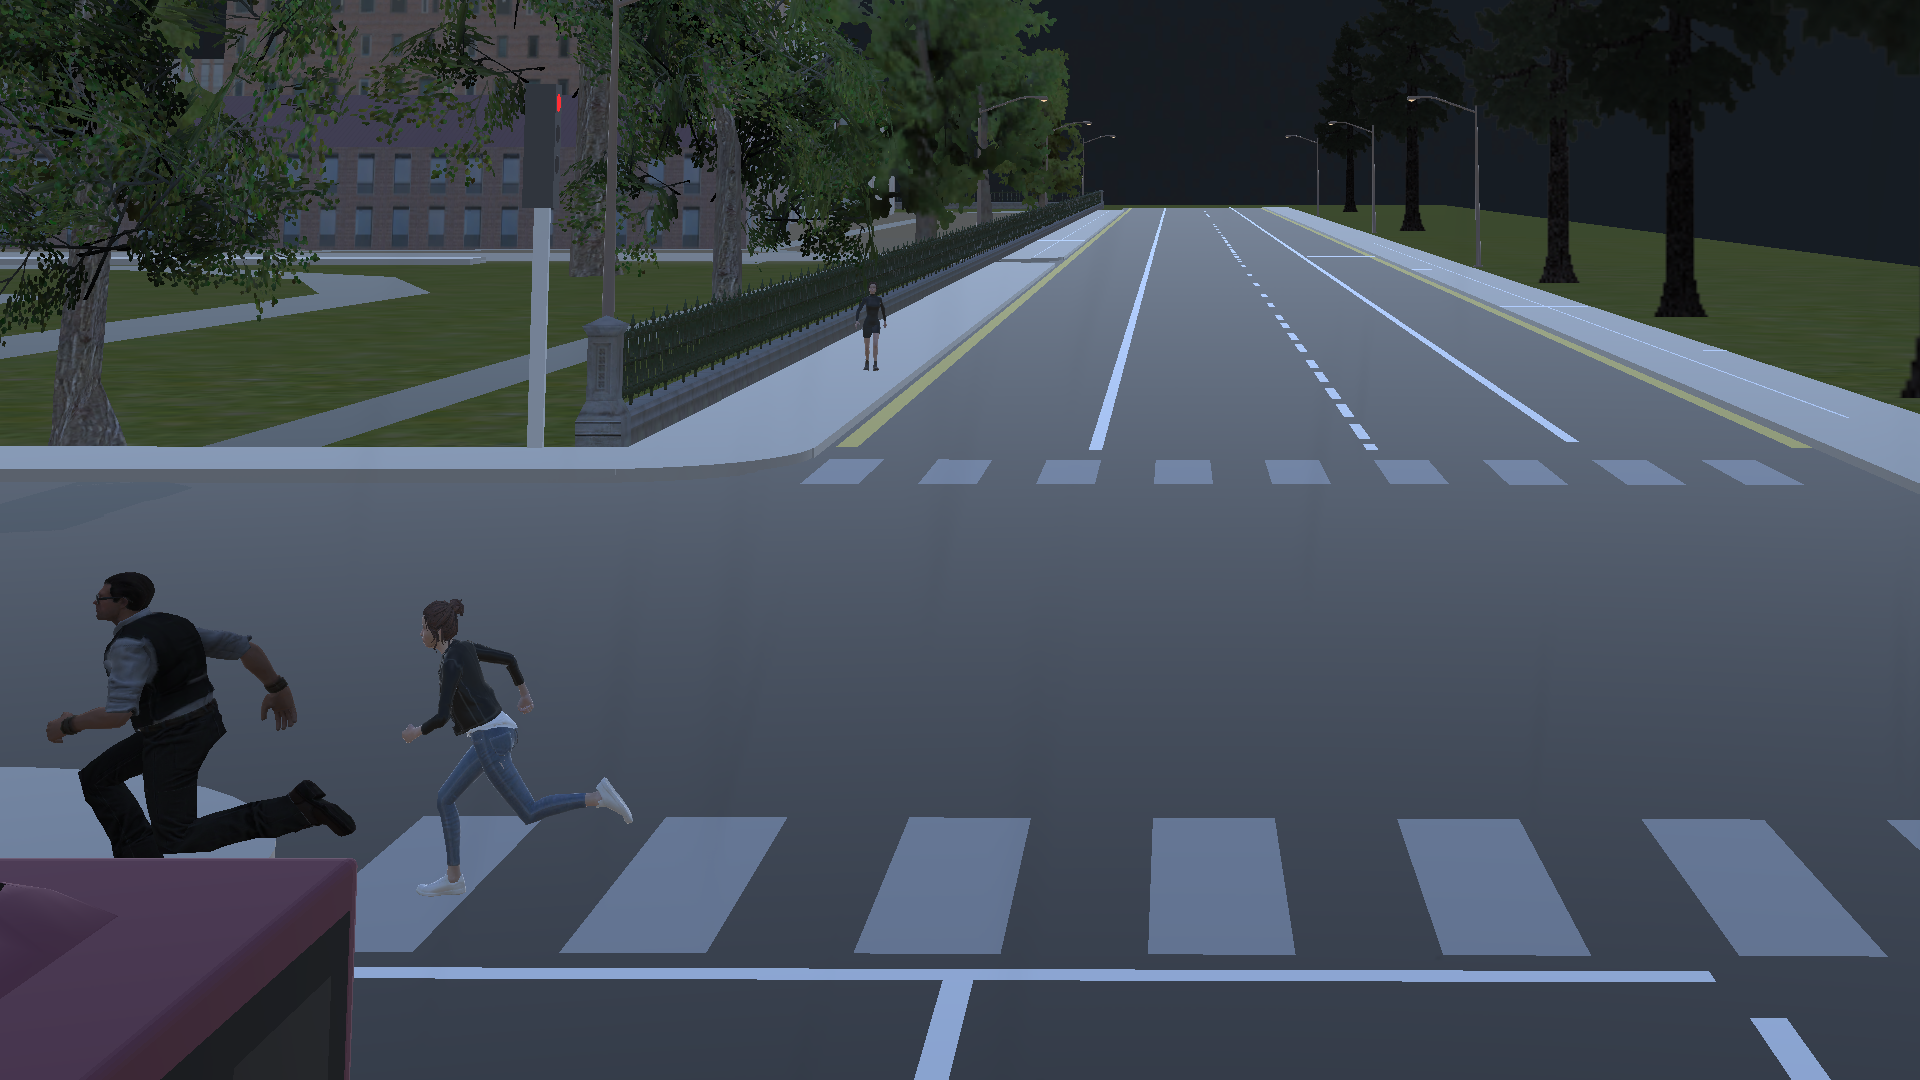pedestrian: (36, 555, 372, 854), (405, 593, 653, 898), (849, 269, 889, 381)
